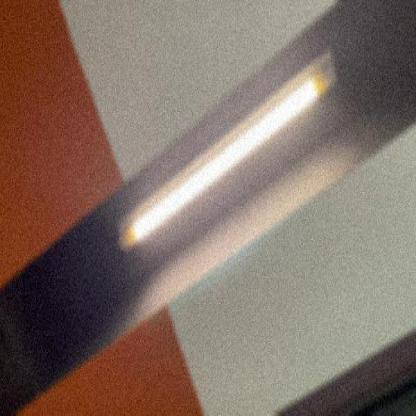light_on: (102, 38, 346, 272)
